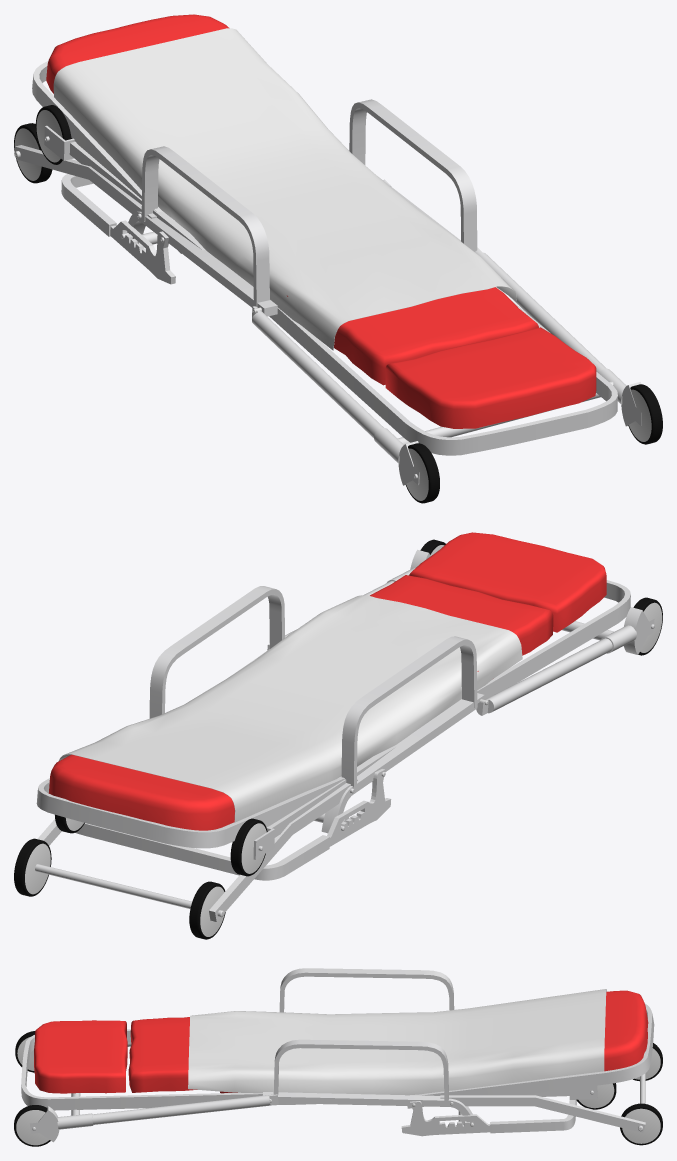
Rendered from bed.fbx.
3 renders of one model, top to bottom at view 1: azimuth 30°, elevation 25°; view 2: azimuth 150°, elevation 25°; view 3: azimuth 270°, elevation 25°, orthographic. The views are drawn at different scales.
Parts seen in each view (by area): view 1: Plane005, Plane001, Plane002, Line001, Plane004, Line002, Line003, Cylinder003, Line004, Line006, Line007, Line010 (+7 smaller); view 2: Plane005, Plane001, Plane004, Plane002, Line006, Line002, Line003, Line009, Line001, Line004, Cylinder003, Line010 (+8 smaller); view 3: Plane005, Plane001, Plane002, Line001, Plane004, Line006, Line011, Line005, Cylinder007, Line003, Line002, Line008 (+10 smaller).
Boxes of the visible parts, x1,y1,x2,y2 form: Plane005: (53,28,516,350); Plane001: (385,327,596,428); Plane002: (334,287,538,385); Line001: (269,299,617,455); Plane004: (46,14,229,93); Line002: (141,146,269,306); Line003: (349,99,477,251); Cylinder003: (252,306,383,437); Line004: (127,211,277,316); Line006: (32,61,181,253); Line007: (110,220,175,284); Line010: (15,145,156,218); Plane005: (58,595,522,822); Plane001: (409,532,606,632); Plane004: (48,754,234,830); Plane002: (370,575,553,655); Line006: (36,776,371,848); Line002: (341,636,477,790); Line003: (149,586,284,718); Line009: (75,823,329,880); Line001: (477,580,630,699); Line004: (321,693,484,833); Cylinder003: (476,638,612,715); Line010: (209,779,357,921); Plane005: (188,989,606,1094); Plane001: (34,1020,127,1093); Plane002: (128,1017,197,1092); Line001: (21,1029,286,1110); Plane004: (604,990,648,1071); Line006: (407,1003,654,1108); Line011: (440,1095,645,1132); Line005: (263,1092,473,1123); Cylinder007: (92,1094,278,1124); Line003: (273,1039,448,1100); Line002: (279,968,454,1012); Line008: (401,1101,490,1136).
Bounding box in the file's own units: 61.38 × 35.3 × 197.
